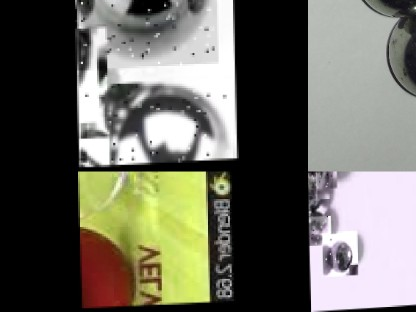ironball: (84, 77, 232, 167), (74, 0, 218, 69), (75, 23, 108, 168), (384, 16, 414, 100), (320, 230, 357, 276), (355, 0, 415, 13), (308, 214, 331, 244), (311, 171, 333, 193)
